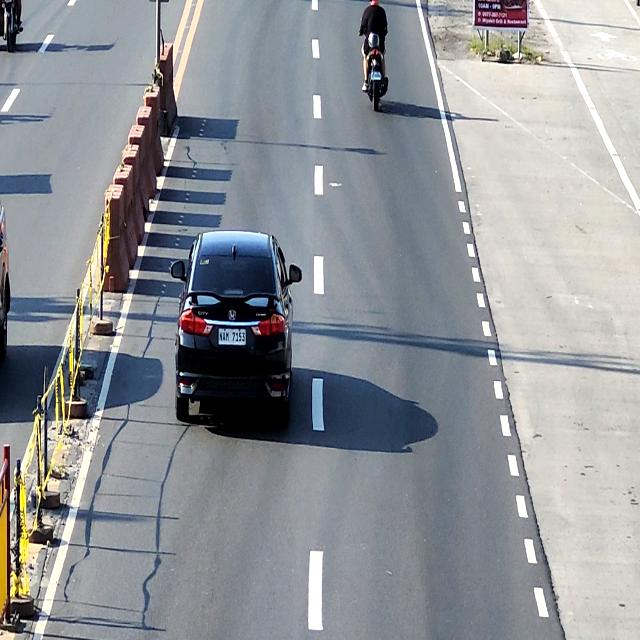Car: (170, 230, 303, 428)
License-Plate: (218, 327, 246, 347), (369, 72, 382, 80)
Motorcycle: (363, 24, 389, 112)
